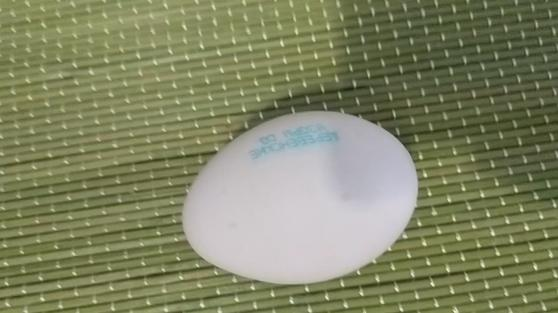egg: (175, 106, 421, 288)
